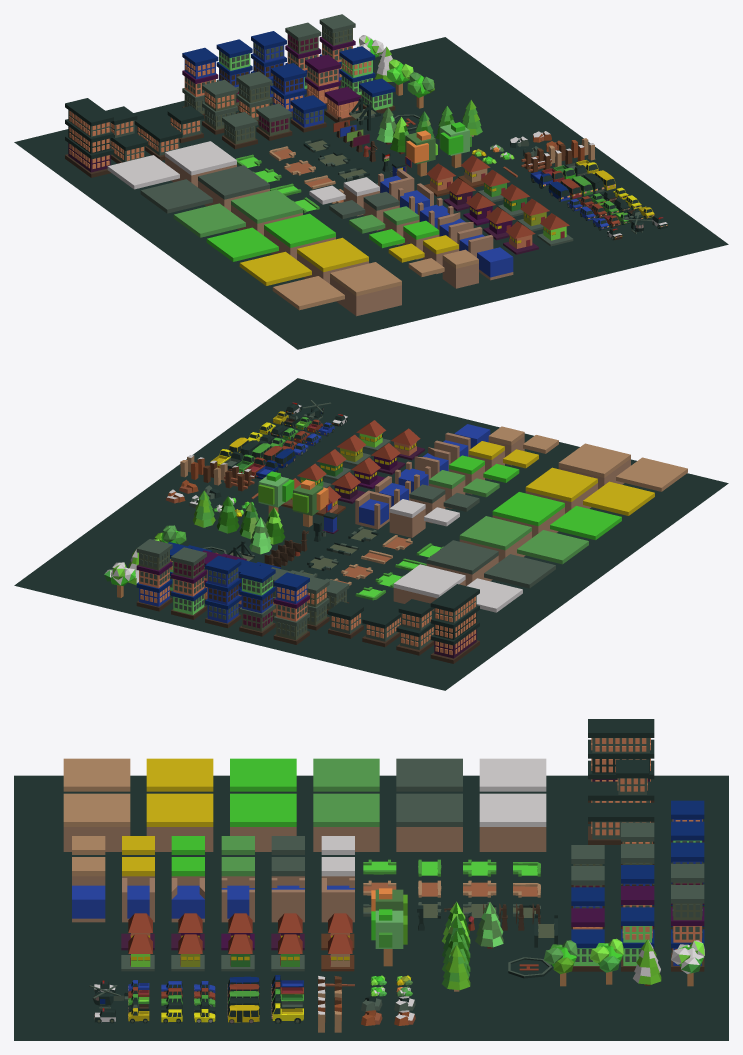
3 renders of one model, top to bottom at view 1: azimuth 30°, elevation 25°; view 2: azimuth 150°, elevation 25°; view 3: azimuth 270°, elevation 25°, orthographic. The views are drawn at different scales.
Parts seen in each view (by area): view 1: Plane, Building15, 4_Cube_soil, 4_Cube_yellowgrass, 4_Cube_rock, 4_Cube_sand, 4_Cube_grass, 4_Cube_snow, Building11, Building17, 4_Plane_sand, 4_Plane_soil (+46 smaller); view 2: Plane, Building15, Building13, Building11, Building14, Building16, Building12, 4_Cube_rock, 4_Cube_yellowgrass, 4_Cube_grass, 4_Cube_sand, 4_Cube_soil (+35 smaller); view 3: Plane, 4_Cube_snow, 4_Cube_rock, Building15, 4_Cube_yellowgrass, 4_Cube_soil, 4_Cube_sand, 4_Cube_grass, 4_Plane_soil, 4_Plane_sand, 4_Plane_snow, 4_Plane_grass (+57 smaller).
Boxes of the visible parts, left/top/right/bottom form: Plane: left=14, top=37, right=728, bottom=349; Building15: left=65, top=98, right=113, bottom=177; 4_Cube_soil: left=330, top=262, right=401, bottom=316; 4_Cube_yellowgrass: left=231, top=189, right=302, bottom=235; 4_Cube_rock: left=198, top=165, right=269, bottom=211; 4_Cube_sand: left=297, top=237, right=368, bottom=283; 4_Cube_grass: left=264, top=213, right=335, bottom=259; 4_Cube_snow: left=165, top=141, right=236, bottom=187; Building11: left=182, top=47, right=218, bottom=118; Building17: left=105, top=106, right=148, bottom=163; 4_Plane_sand: left=239, top=251, right=311, bottom=285; 4_Plane_soil: left=272, top=276, right=344, bottom=310; Plane: left=14, top=378, right=728, bottom=690; Building15: left=430, top=584, right=479, bottom=663; Building13: left=205, top=555, right=241, bottom=628; Building11: left=273, top=572, right=309, bottom=644; Building14: left=171, top=547, right=206, bottom=619; Building16: left=136, top=539, right=172, bottom=611; Building12: left=239, top=564, right=275, bottom=636; 4_Cube_rock: left=426, top=540, right=498, bottom=585; 4_Cube_yellowgrass: left=459, top=516, right=531, bottom=561; 4_Cube_grass: left=492, top=492, right=564, bottom=537; 4_Cube_sand: left=525, top=467, right=597, bottom=513; 4_Cube_soil: left=558, top=443, right=630, bottom=489; Plane: left=14, top=775, right=728, bottom=1040; 4_Cube_snow: left=479, top=793, right=546, bottom=851; 4_Cube_rock: left=396, top=793, right=462, bottom=851; Building15: left=588, top=719, right=654, bottom=802; 4_Cube_yellowgrass: left=313, top=793, right=379, bottom=851; 4_Cube_soil: left=63, top=793, right=130, bottom=851; 4_Cube_sand: left=146, top=793, right=213, bottom=851; 4_Cube_grass: left=230, top=793, right=296, bottom=851; 4_Plane_soil: left=63, top=758, right=130, bottom=791; 4_Plane_sand: left=146, top=758, right=213, bottom=791; 4_Plane_snow: left=479, top=758, right=546, bottom=791; 4_Plane_grass: left=230, top=758, right=296, bottom=791.
Size of the model in its own units: 37.72 by 4.95 by 42.96.
Materials: 1 (1 with a texture image).
